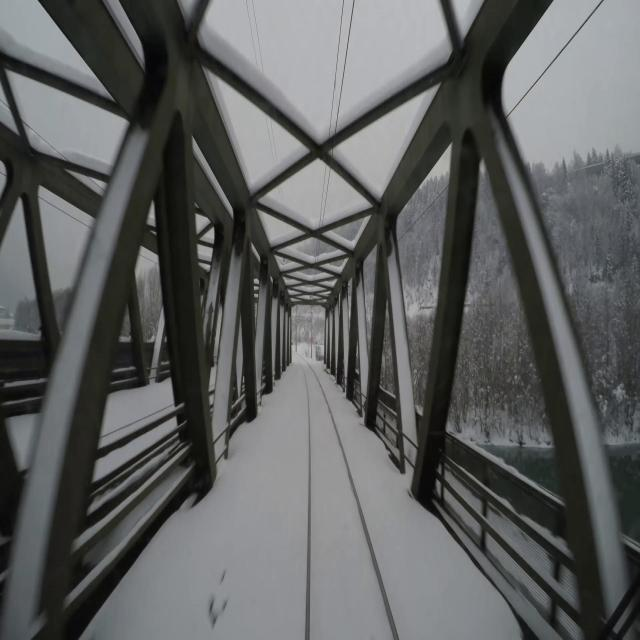rail-track: (301, 360, 393, 639)
